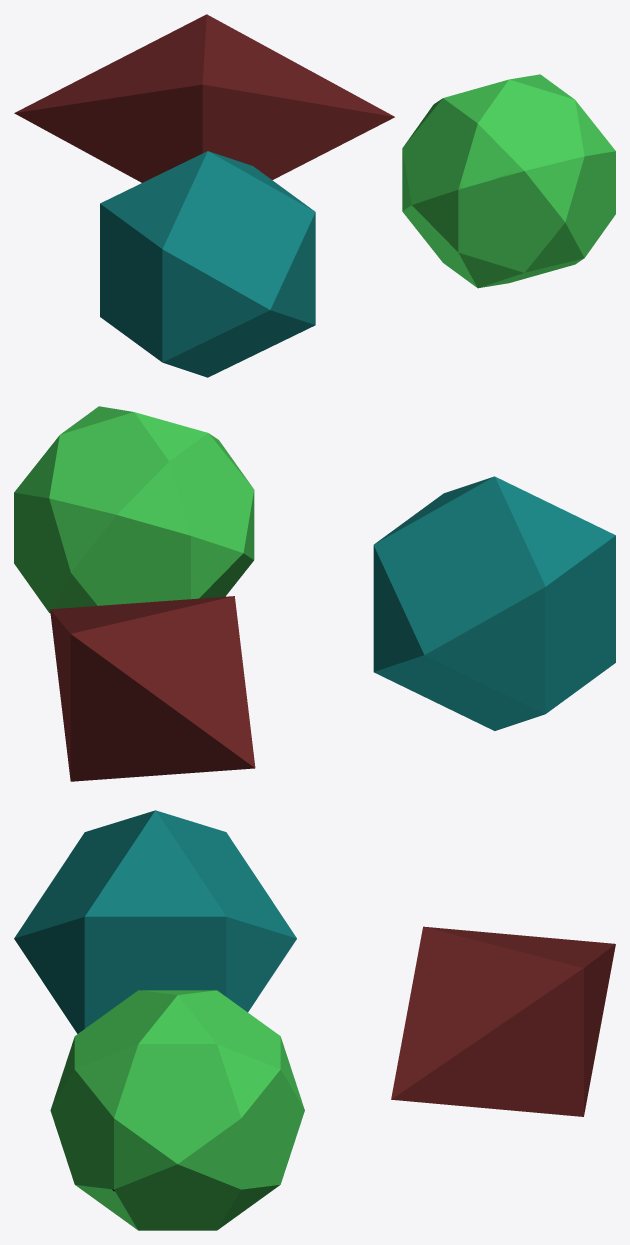
Rendered from gems.FBX.
The picture shows the model from 3 angles, top to bottom: view 1: azimuth 30°, elevation 25°; view 2: azimuth 150°, elevation 25°; view 3: azimuth 270°, elevation 25°; orthographic projection. The views are drawn at different scales.
Parts seen in each view (by area): view 1: Hedra003, Hedra001, Hedra002; view 2: Hedra003, Hedra001, Hedra002; view 3: Hedra001, Hedra003, Hedra002.
Part boxes in pixels (x1,y1,x2,y2): Hedra003: (100,151,315,377); Hedra001: (402,74,615,288); Hedra002: (14,14,394,182); Hedra003: (373,476,615,730); Hedra001: (14,406,254,613); Hedra002: (50,596,255,781); Hedra001: (50,990,304,1230); Hedra003: (14,810,296,1033); Hedra002: (391,926,615,1116).
Bounding box in the file's own units: 30.28 × 13.53 × 28.75.
